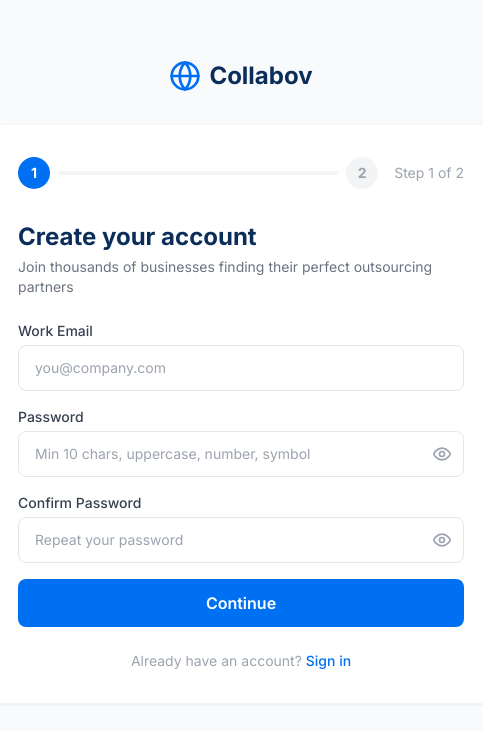
Test: Feature: Buyer Registration (3-step flow) › Scenario: Password must meet security requirements › should reject a password shorter than 10 characters
The width and height of the screenshot is (483, 731).
Type "a@b.com" into the field with placeholder "you@company.com" at (241, 368), box [18,345,464,391]
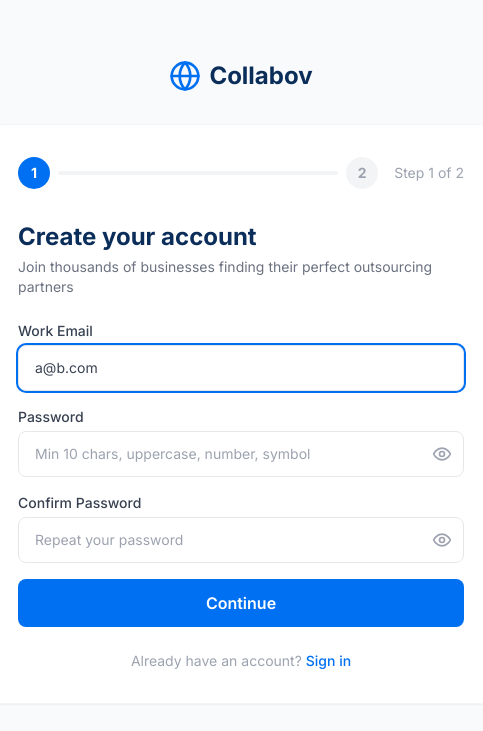
Type "Short1!" into the password field with placeholder "Min 10 chars, uppercase, number, symbol" at (241, 454), box [18,431,464,477]
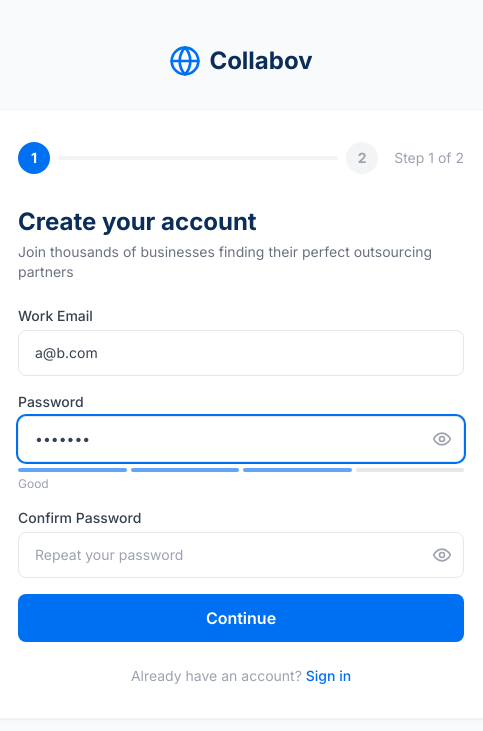
Type "Short1!" into the password field with placeholder "Repeat your password" at (241, 555), box [18,532,464,578]
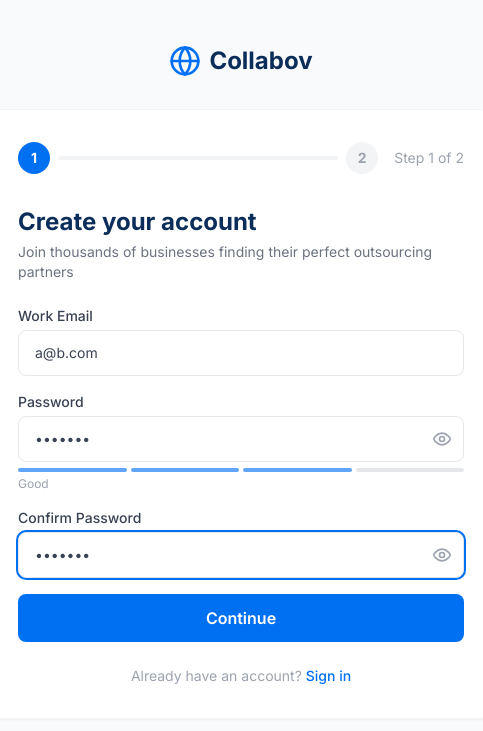
Click the button "Continue" at (241, 618), box [18,594,464,642]
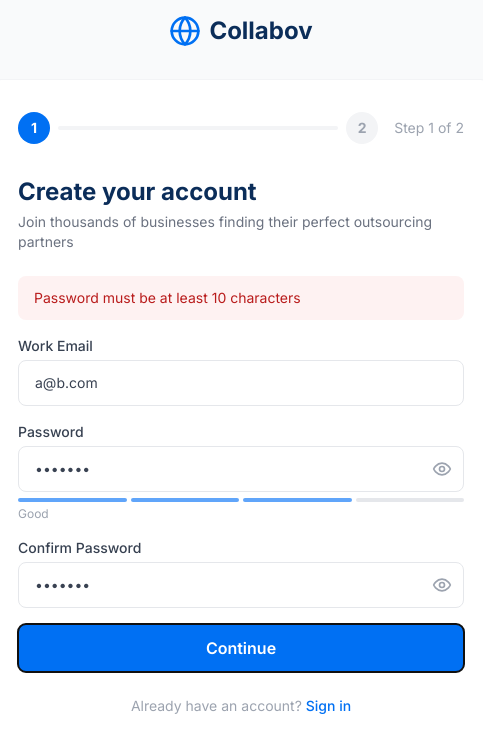
Check: the text "Password must be at least 10 characters" is shown, box [18,276,464,320]
